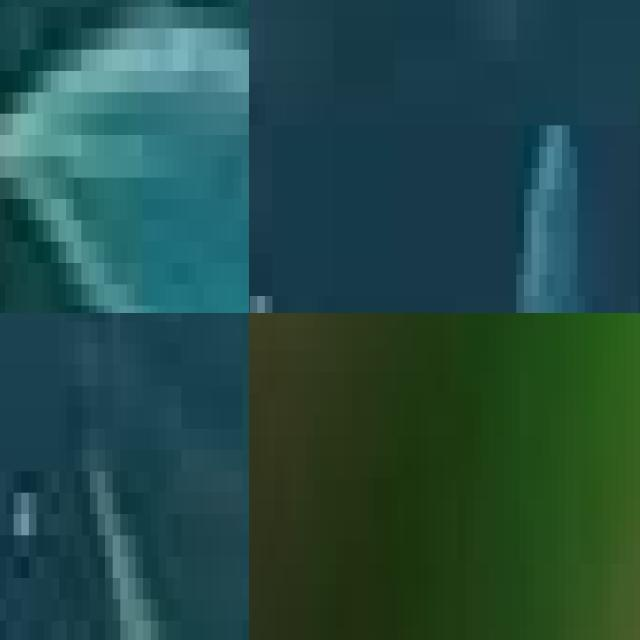fish: (0, 0, 249, 313), (44, 386, 249, 640)
